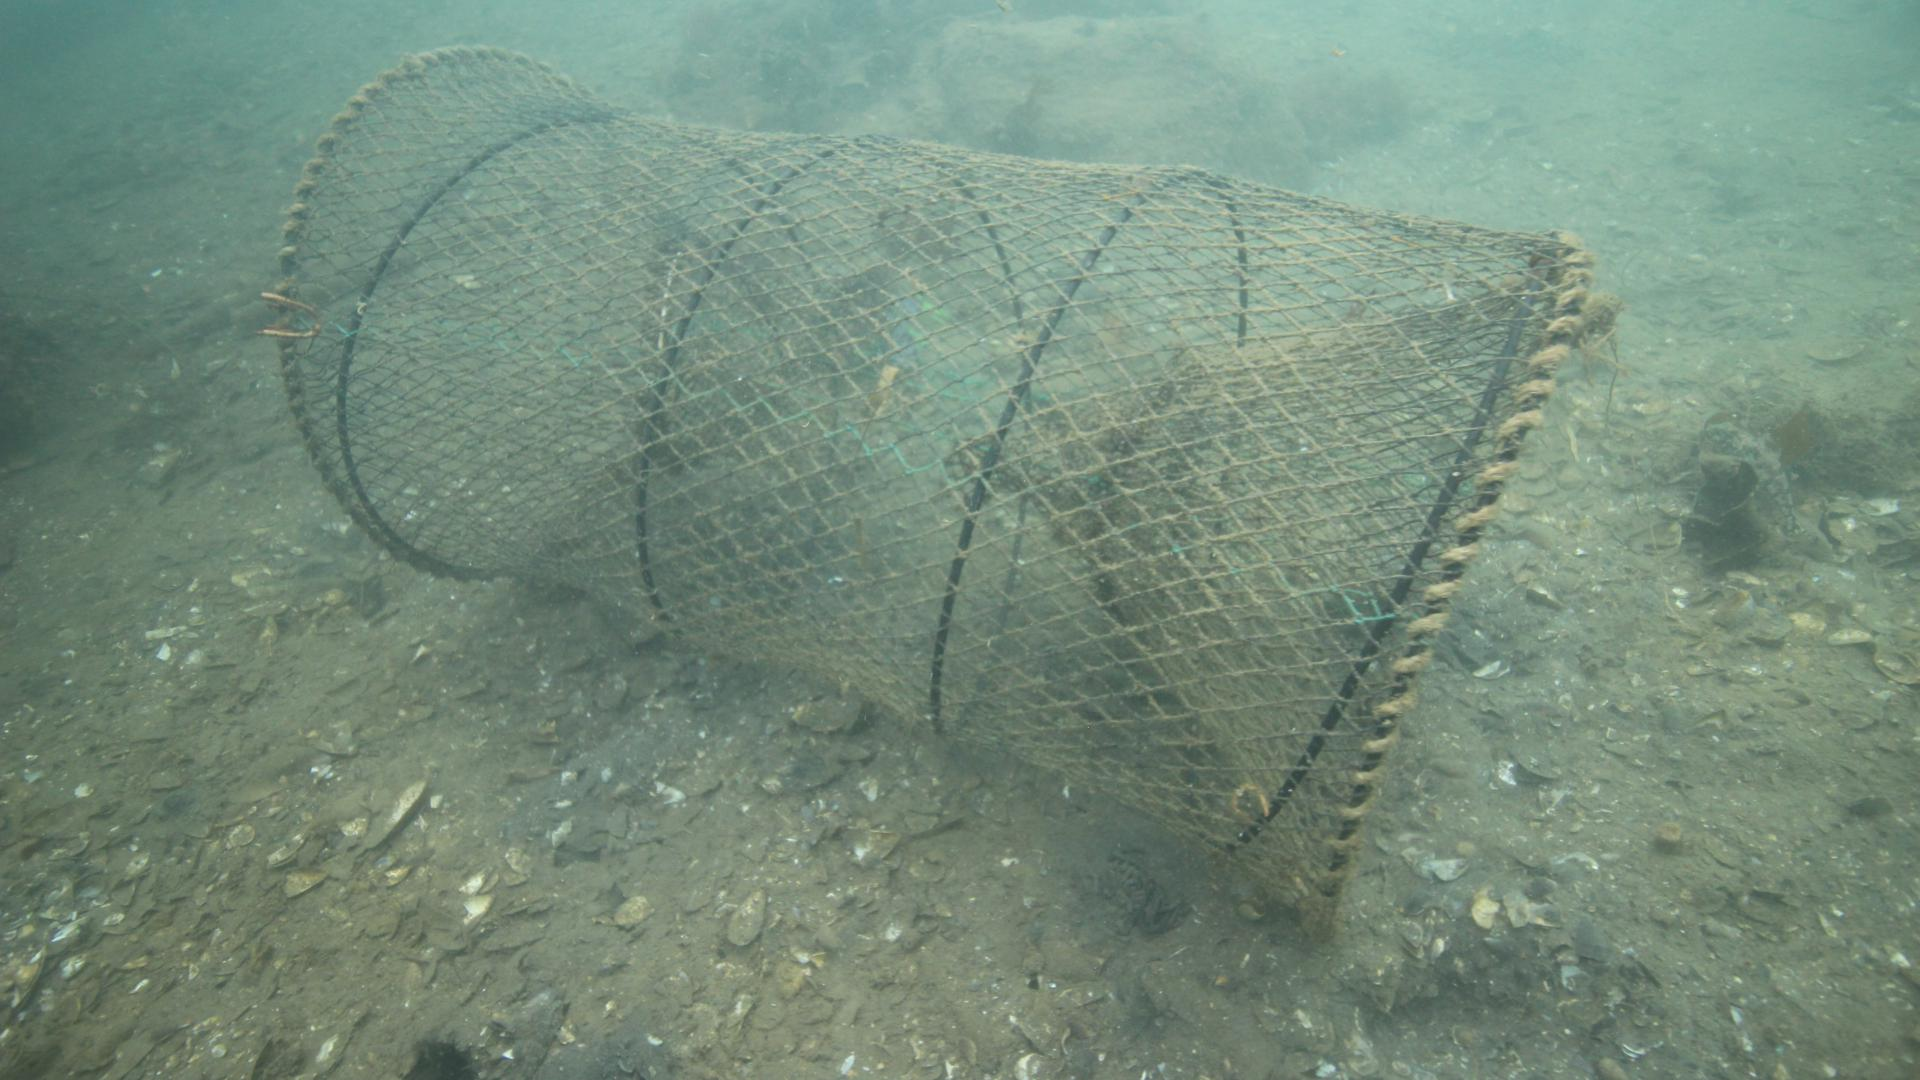spring fish trap: (269, 37, 1592, 940)
